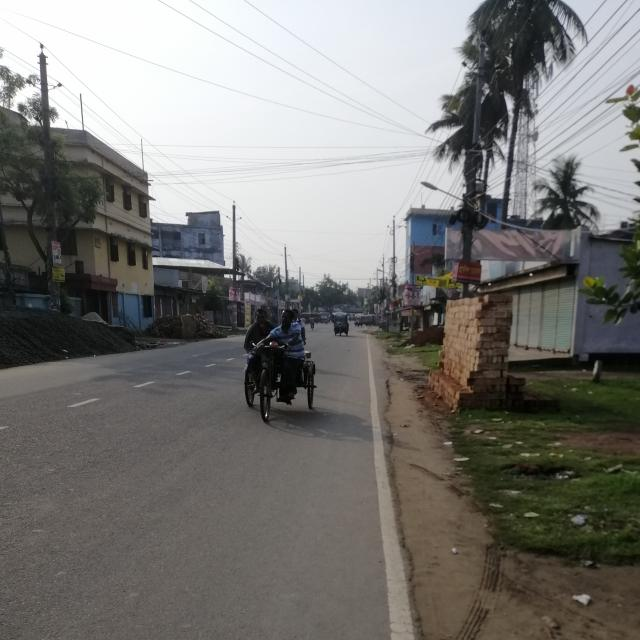Van: (237, 343, 326, 428)
